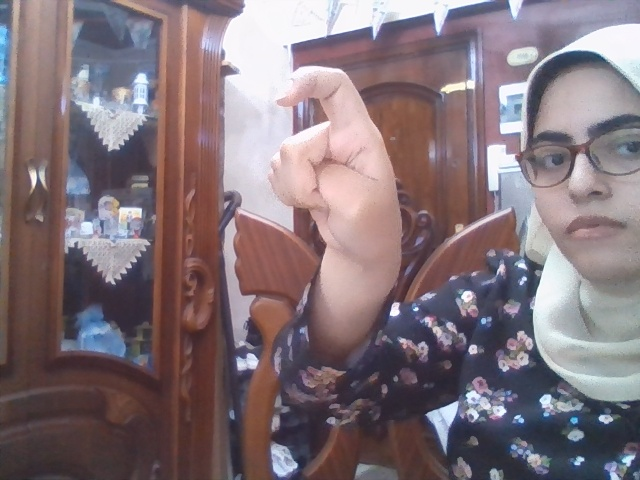X: (269, 65, 402, 267)
